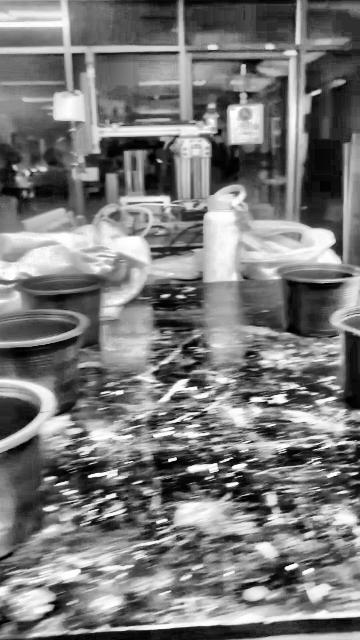pot: (0, 379, 54, 558), (0, 309, 89, 413), (275, 263, 359, 336), (20, 273, 102, 347), (335, 312, 360, 407)
